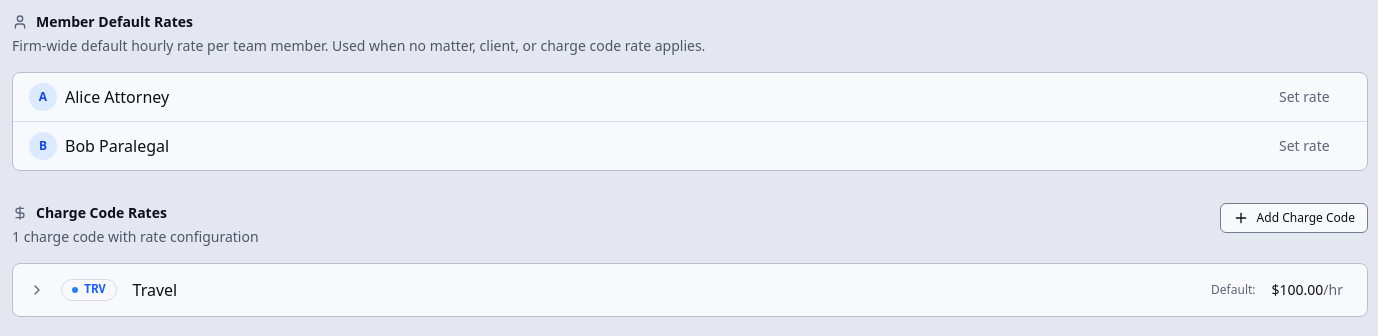
Test: invalid draft rates › never saves a negative rate
The width and height of the screenshot is (1378, 336).
Click the button "$100.00/hr": click(1307, 290) left=1264, top=276, right=1351, bottom=304
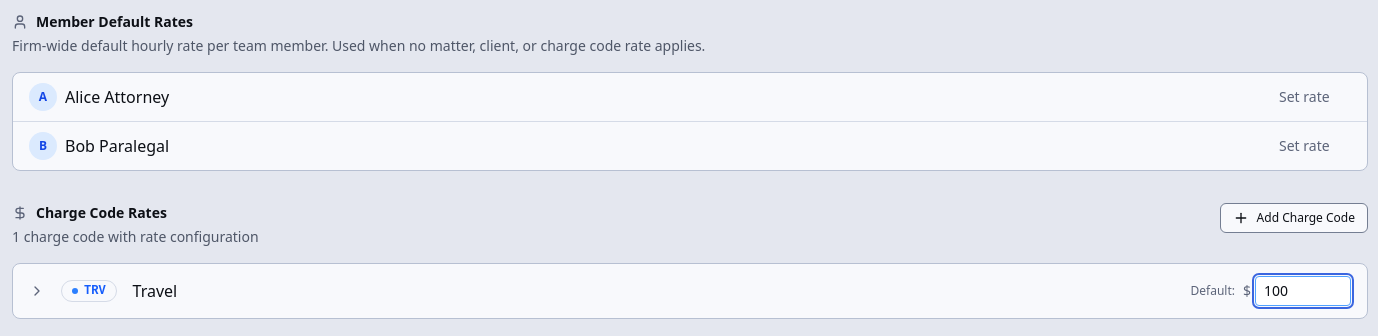
Replace the text in the number field with "-5": (1303, 291) left=1255, top=276, right=1351, bottom=306
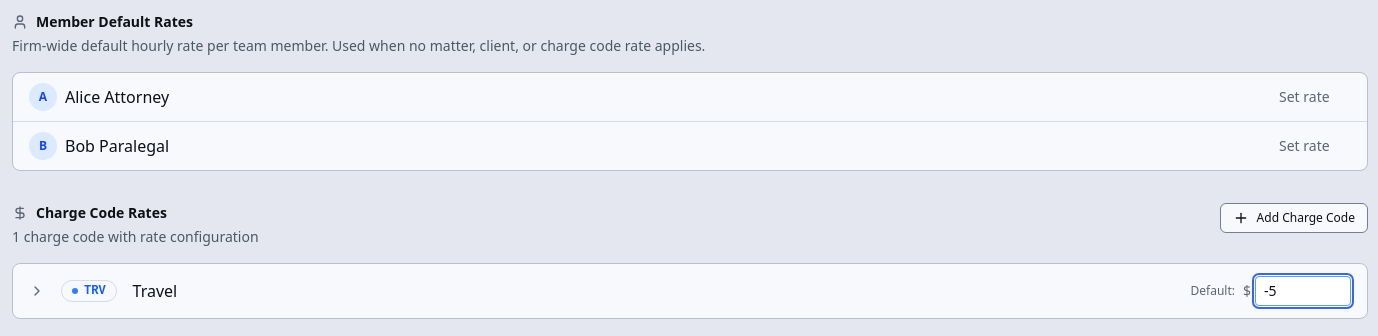
Press Enter in the number field, box left=1255, top=276, right=1351, bottom=306
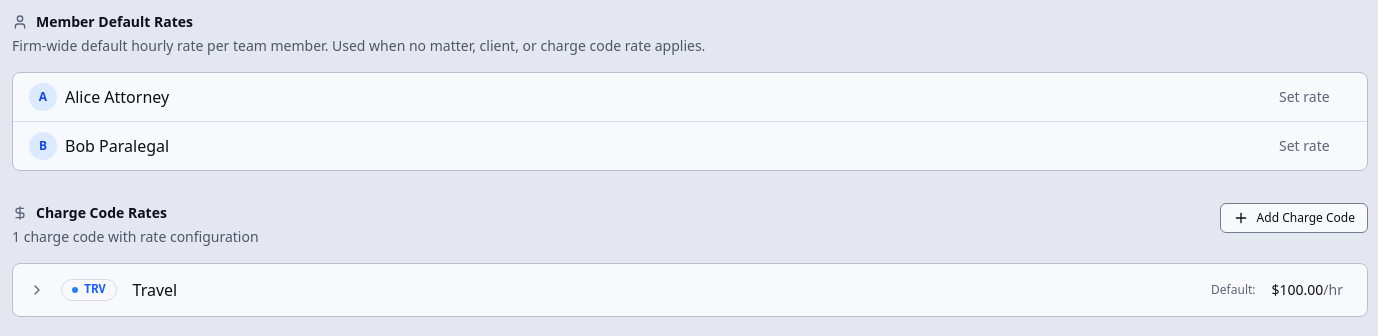
Expected: the button "$100.00/hr" is shown, left=1264, top=276, right=1351, bottom=304
